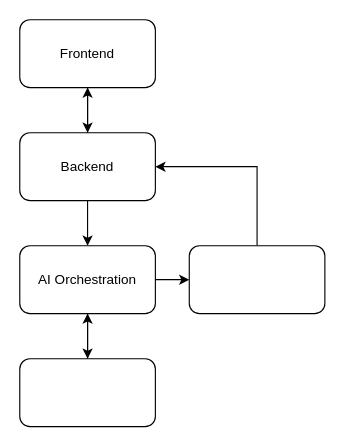
Image size: 345x446. Some labels were removed from this diagram. The centre of each missing label's shape, as x and y in pixels:
Database: the point at 256,279
LLM: the point at 87,392
